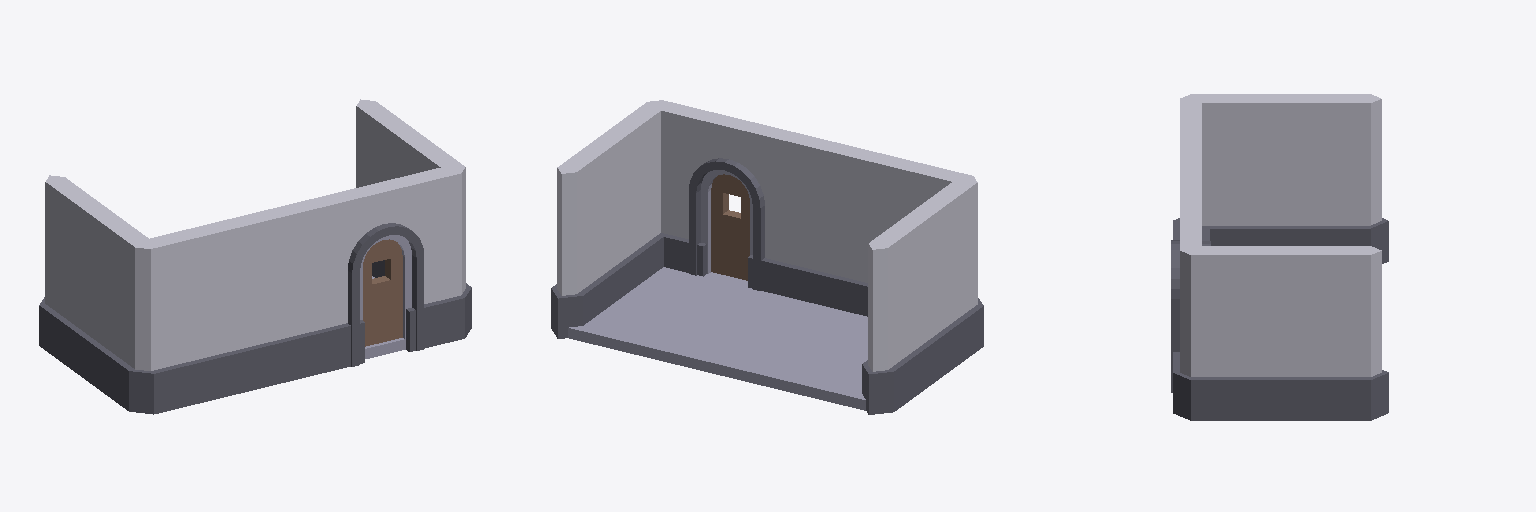
Rendered from hallway_end_05.obj.
The picture shows the model from 3 angles: view 1: azimuth 30°, elevation 25°; view 2: azimuth 150°, elevation 25°; view 3: azimuth 270°, elevation 25°; orthographic projection.
Parts seen in each view (by area): view 1: corner_01_92, door_01_91, wall_01_93; view 2: corner_01_92, floor_04_90, door_01_91, wall_01_93; view 3: wall_01_93, corner_01_92, door_01_91.
Boxes of the visible parts, x1=… form: corner_01_92: x1=39, y1=175, x2=311, y2=414; door_01_91: x1=291, y1=165, x2=466, y2=375; wall_01_93: x1=356, y1=99, x2=471, y2=336; corner_01_92: x1=801, y1=138, x2=983, y2=414; floor_04_90: x1=568, y1=267, x2=867, y2=410; door_01_91: x1=649, y1=100, x2=819, y2=300; wall_01_93: x1=551, y1=102, x2=666, y2=338; wall_01_93: x1=1173, y1=246, x2=1388, y2=420; corner_01_92: x1=1173, y1=94, x2=1388, y2=263; door_01_91: x1=1171, y1=170, x2=1210, y2=418.
Size of the model in its own units: 2.21 by 1 by 1.22.